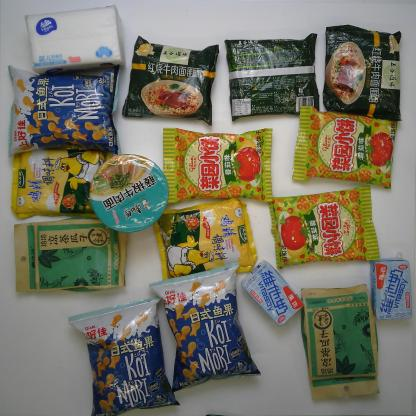Dried Food: (294, 278, 386, 402), (11, 215, 130, 297)
Instant Noodles: (118, 30, 221, 127), (320, 19, 408, 125), (224, 35, 322, 126), (86, 148, 173, 236)
Milk: (237, 254, 307, 329), (366, 246, 414, 326)
Puffed Food: (143, 261, 265, 393), (69, 289, 183, 416), (7, 57, 125, 159), (268, 182, 385, 272), (156, 123, 282, 206), (292, 102, 401, 191)
Seasoner: (149, 195, 264, 283), (10, 140, 125, 223)
Tissue: (21, 2, 131, 75)
